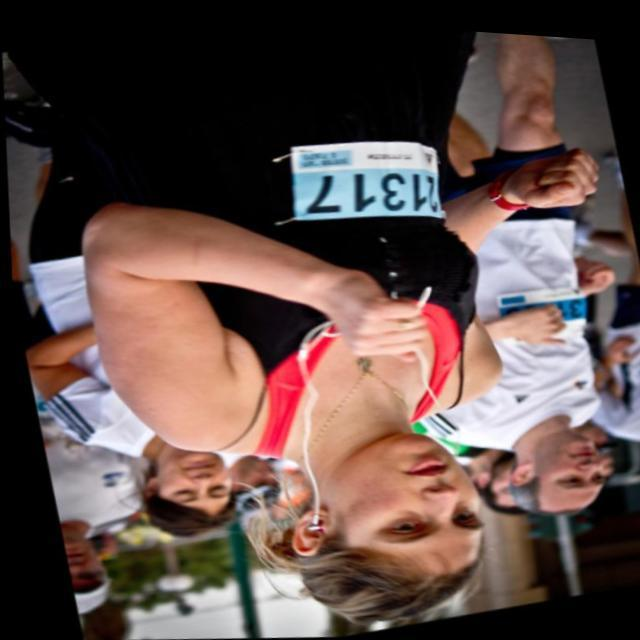dorsal: (262, 102, 463, 264)
